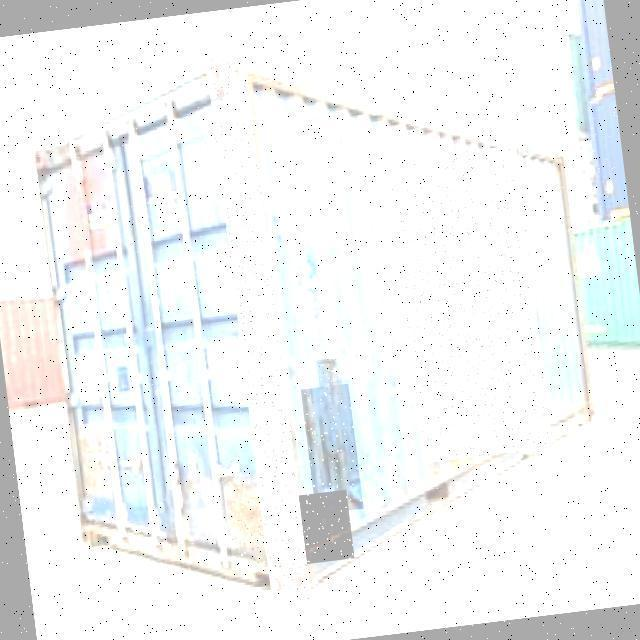rust: (206, 53, 312, 608), (388, 146, 553, 464), (302, 384, 365, 515), (223, 475, 280, 570), (299, 491, 355, 565), (317, 358, 343, 388)
